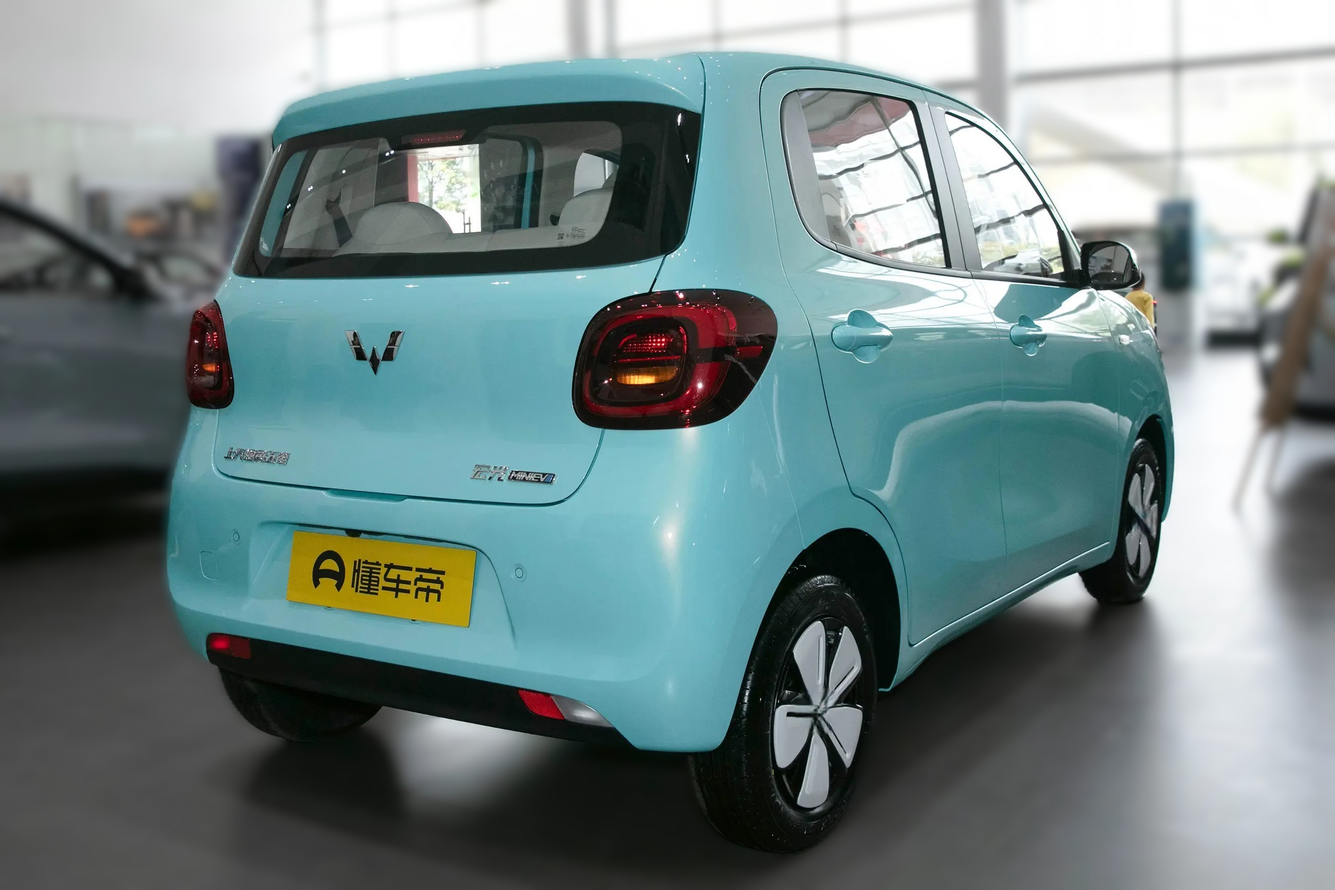SGMW: (345, 330, 404, 375)
